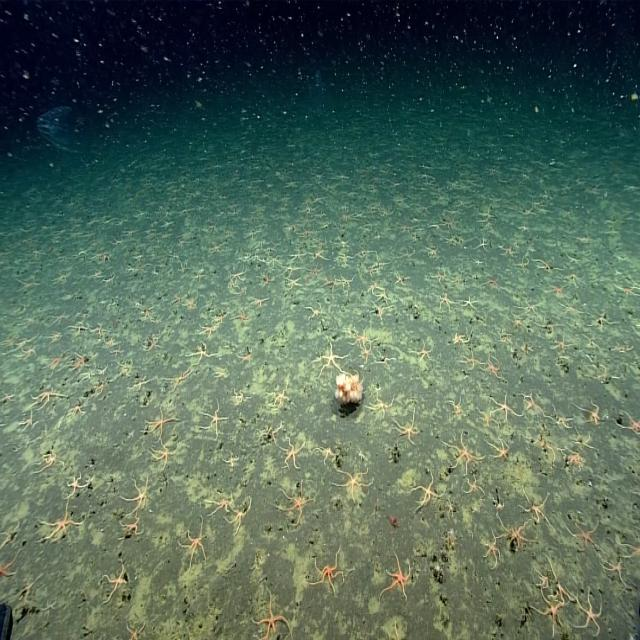brittle-stars: (253, 593, 293, 640), (309, 549, 345, 592), (531, 586, 566, 630), (40, 504, 79, 541), (383, 551, 411, 600), (178, 523, 208, 567), (575, 587, 602, 634), (498, 516, 532, 553), (447, 436, 479, 474), (520, 486, 549, 527), (335, 470, 372, 502), (100, 563, 132, 599), (281, 488, 311, 526), (121, 480, 153, 514), (413, 471, 440, 509), (200, 402, 225, 441), (146, 408, 176, 439), (30, 384, 60, 412), (282, 436, 306, 471), (318, 341, 344, 373), (223, 500, 251, 529), (394, 413, 418, 445), (483, 530, 502, 570), (489, 392, 515, 421), (573, 520, 598, 549), (151, 443, 179, 467), (120, 512, 144, 538), (36, 446, 58, 474), (65, 472, 84, 503), (208, 490, 232, 514), (548, 408, 572, 432), (269, 382, 291, 408), (579, 402, 602, 426), (370, 393, 392, 416), (490, 437, 511, 461), (484, 354, 502, 381), (516, 297, 539, 318), (414, 338, 434, 362), (191, 342, 210, 367), (564, 446, 585, 468), (522, 392, 542, 414), (126, 620, 146, 640), (462, 349, 480, 371), (50, 309, 70, 328), (354, 326, 371, 348), (452, 326, 471, 345), (436, 292, 454, 312), (69, 350, 87, 370), (553, 334, 571, 353), (546, 281, 566, 298), (460, 294, 479, 311), (198, 322, 218, 338), (562, 302, 580, 319), (46, 354, 62, 373), (21, 342, 37, 360), (144, 333, 160, 351), (394, 266, 408, 286), (335, 250, 352, 266), (290, 248, 306, 264), (286, 275, 302, 291), (360, 345, 375, 362), (475, 235, 489, 253), (250, 295, 268, 309), (308, 262, 322, 280), (266, 253, 282, 268), (339, 274, 355, 289), (183, 295, 197, 312), (376, 287, 389, 305), (235, 309, 249, 325), (208, 240, 222, 256), (107, 338, 116, 348)
